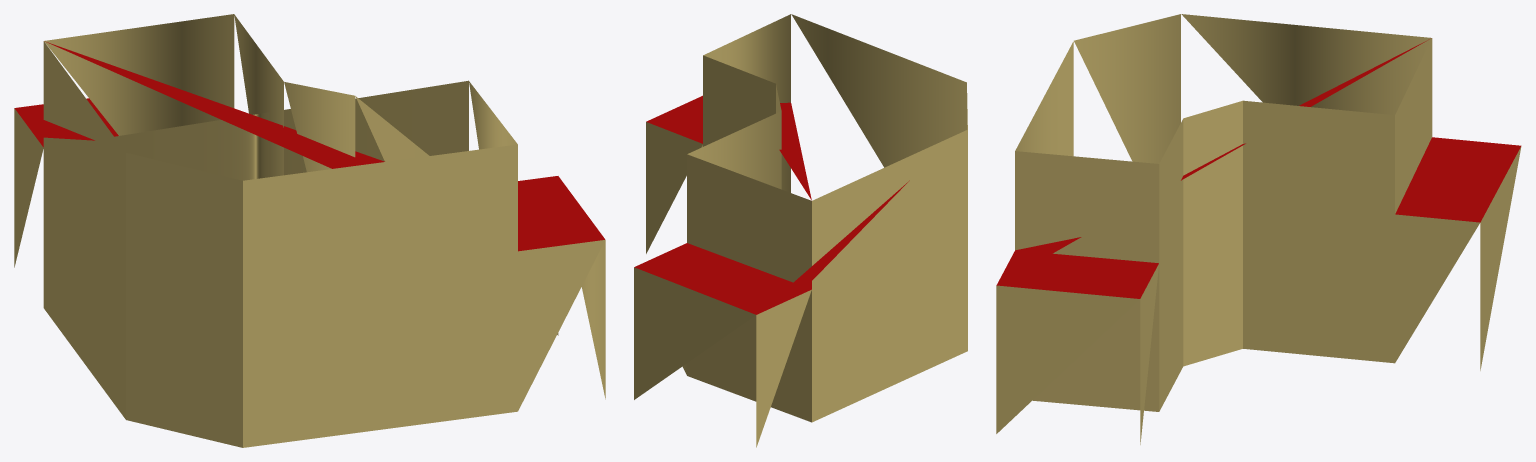
The picture shows the model from 3 angles, left to right: view 1: azimuth 30°, elevation 25°; view 2: azimuth 150°, elevation 25°; view 3: azimuth 270°, elevation 25°; orthographic projection. The views are drawn at different scales.
Bounding box in the file's own units: 40.16 × 25 × 47.95.
